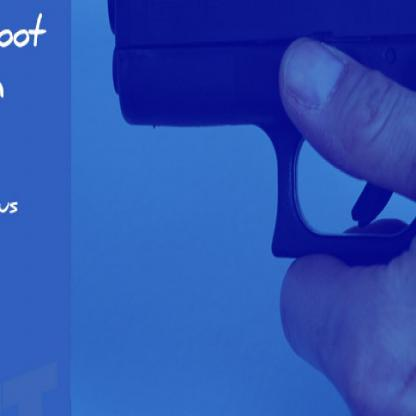gun: (107, 0, 415, 287)
